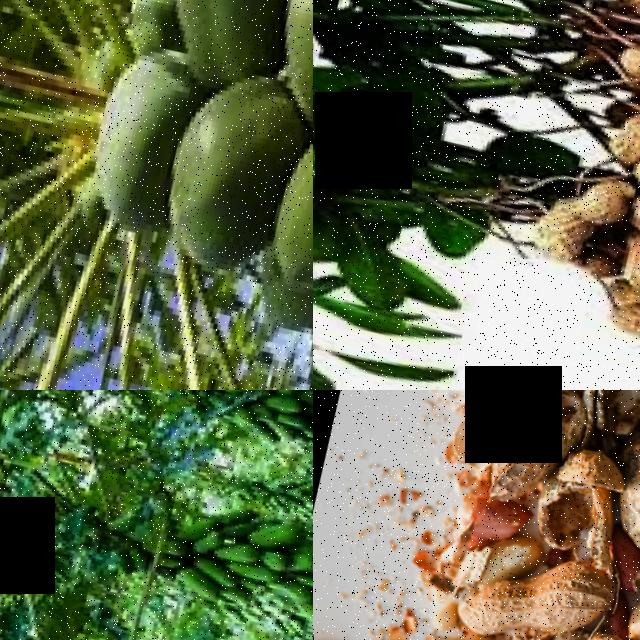pawpaw: (119, 80, 313, 307), (130, 0, 313, 92), (237, 144, 313, 318), (237, 0, 313, 148), (242, 517, 302, 567), (161, 565, 216, 613), (261, 396, 310, 431)
peanuts: (434, 532, 617, 640), (582, 433, 640, 581), (509, 193, 593, 283), (581, 297, 640, 382), (589, 114, 640, 182), (604, 571, 640, 640)
